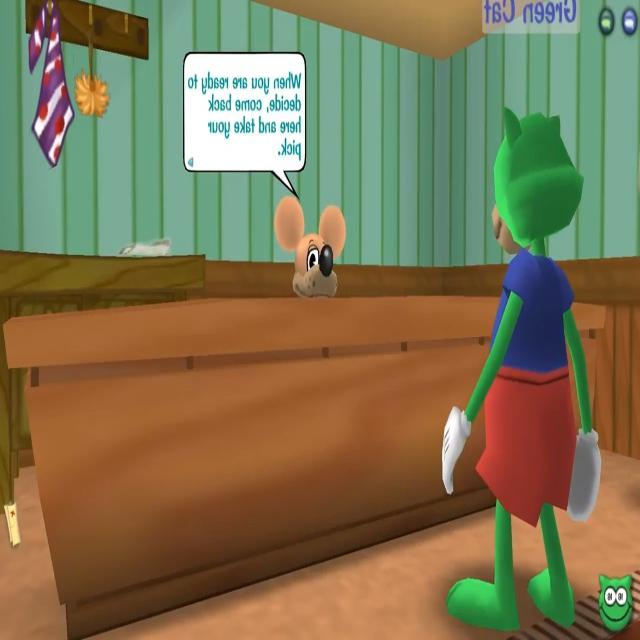npc: (272, 207, 341, 308)
